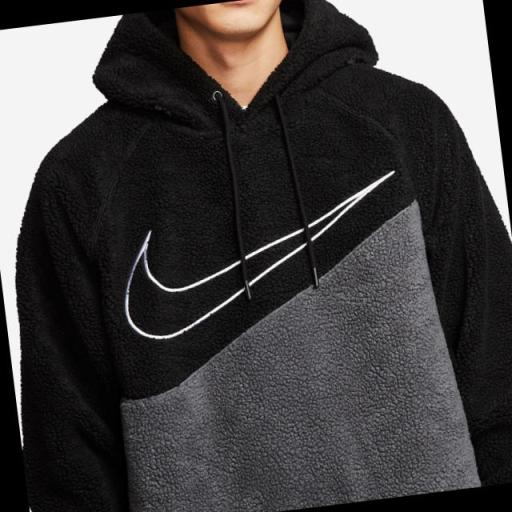Nike: (108, 170, 414, 352)
